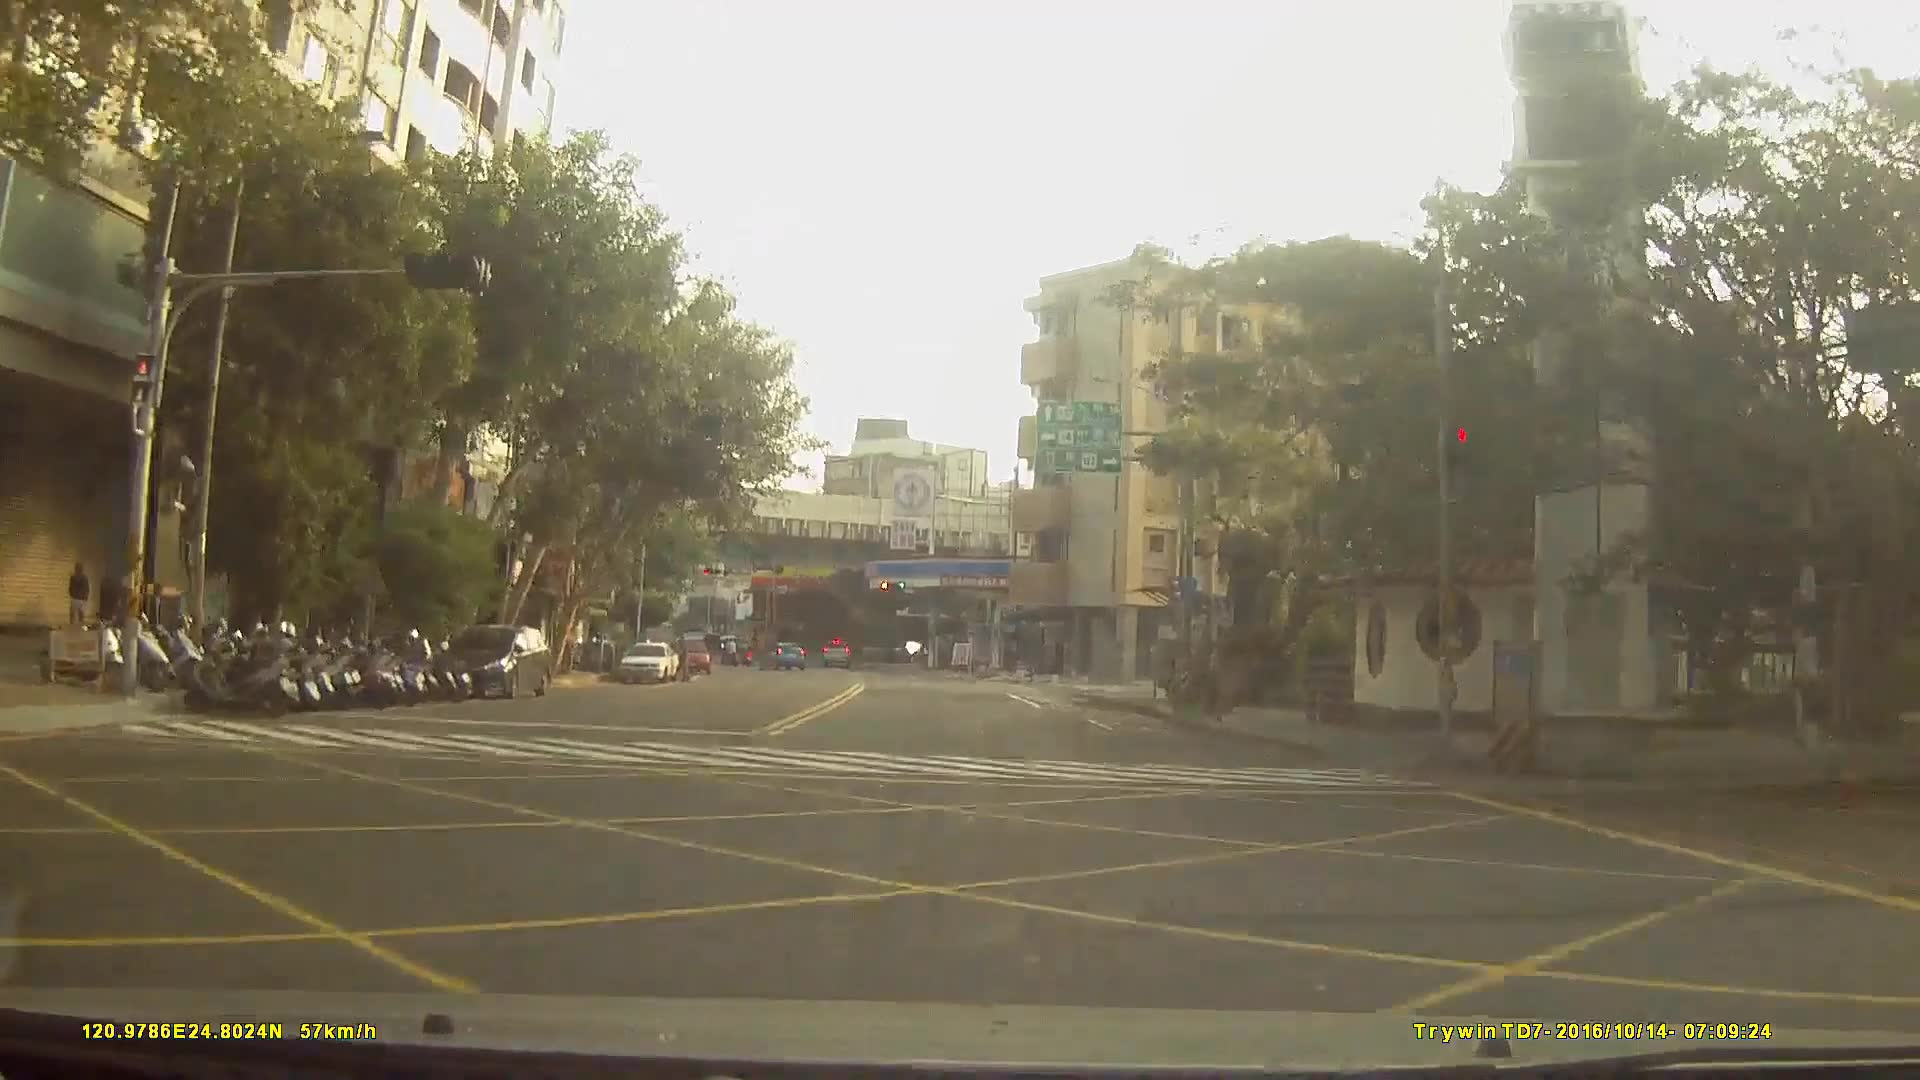pedestrian: (69, 560, 91, 638)
vehicle: (432, 622, 550, 700), (614, 639, 677, 683), (666, 635, 709, 674), (758, 640, 804, 672), (820, 637, 852, 665)
